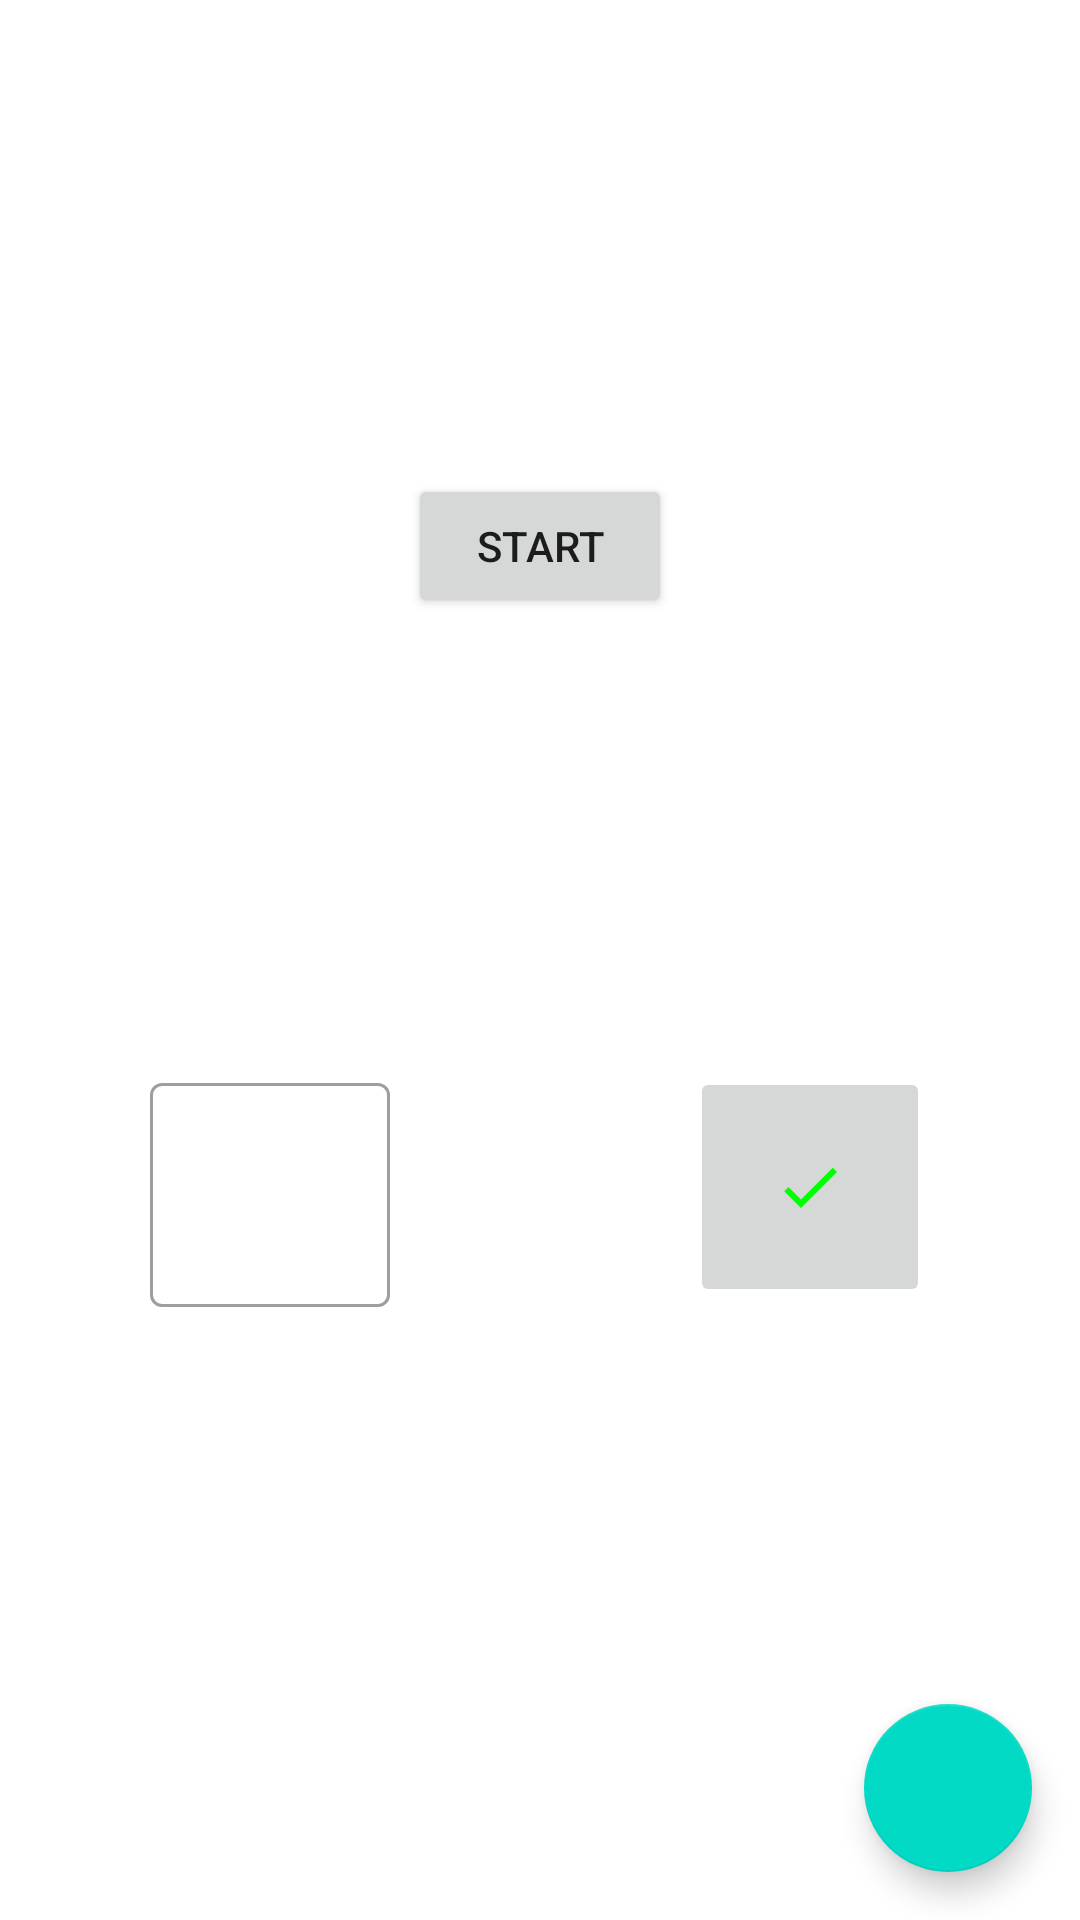

Screen size 1080 × 1920. Icon name, then its box in pixels as (x1, y1, x2, y2):
confirm: (702, 1085, 918, 1289)
